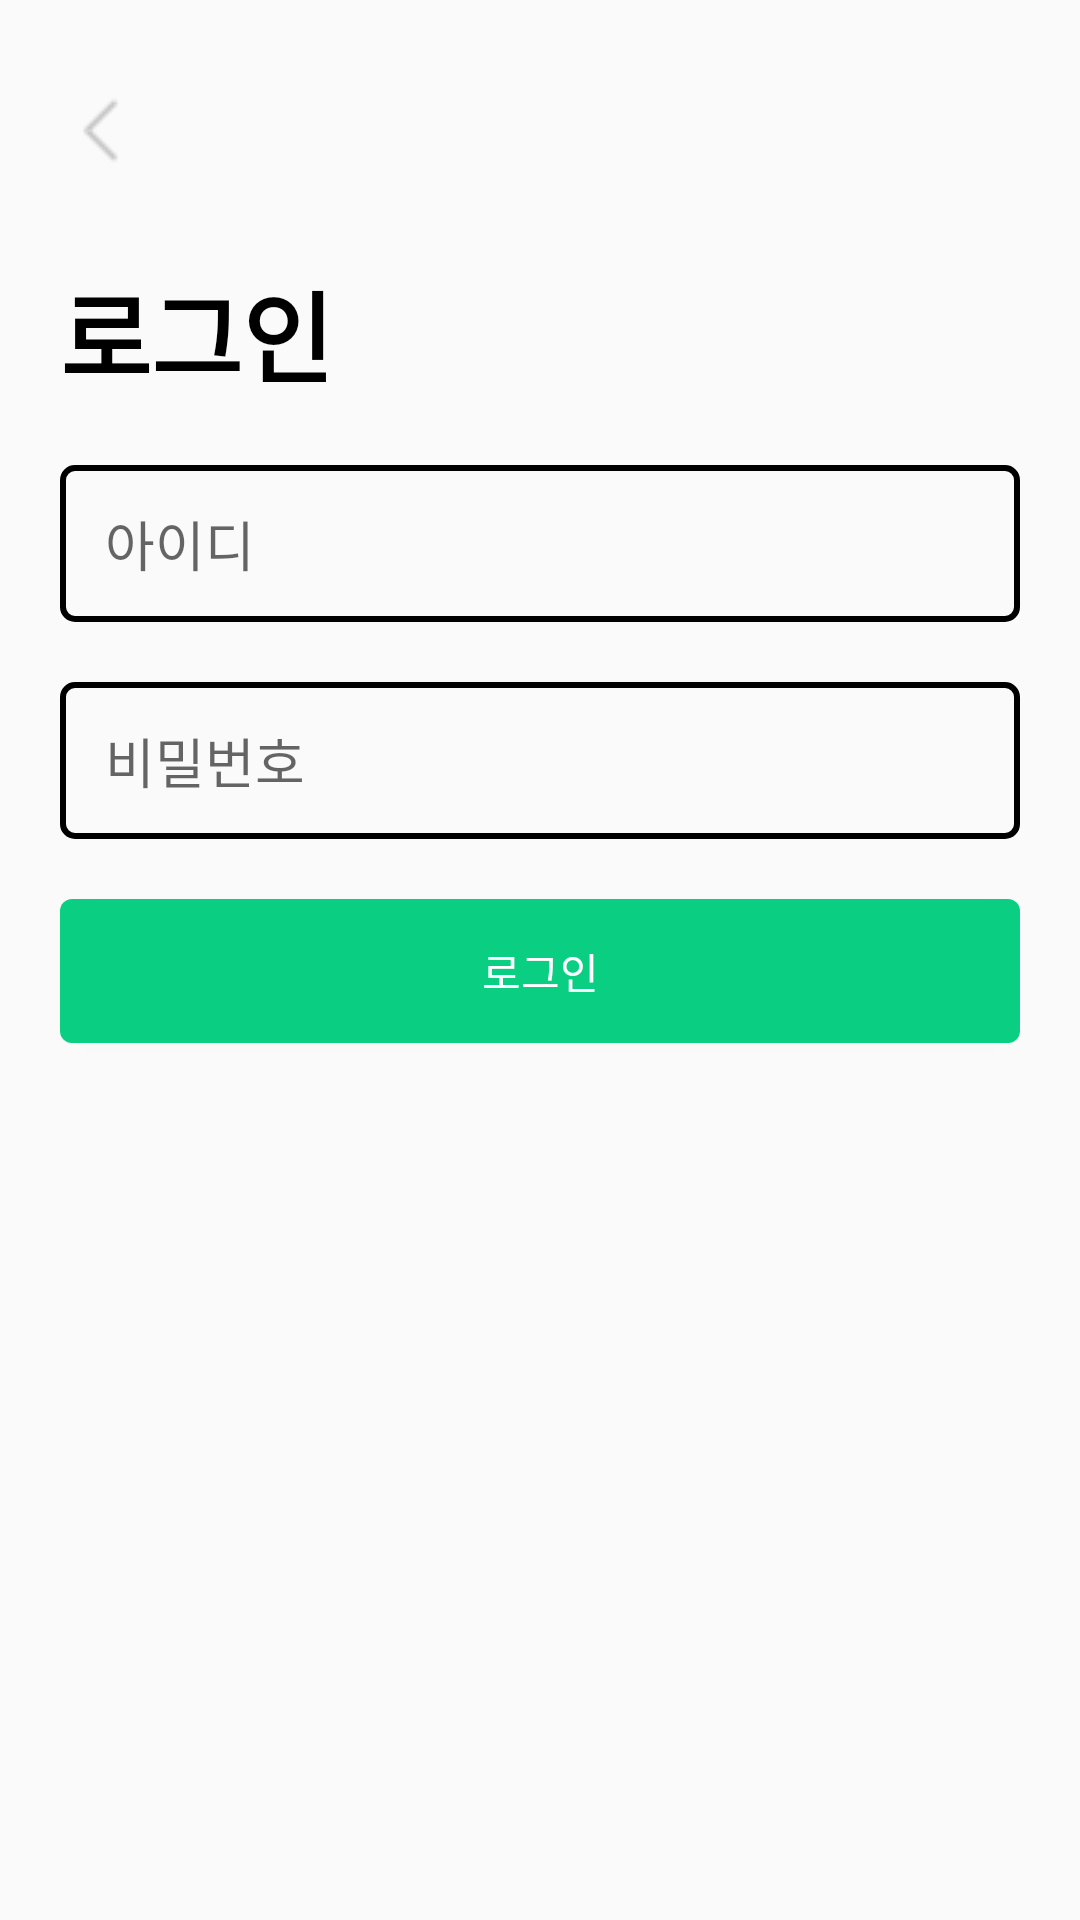

Where to tap for icons on this 1080x1920 app screen, as [x,y]:
back: [100,130]
